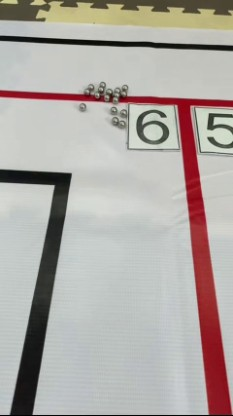ironball: (75, 98, 88, 112), (115, 106, 129, 118), (105, 106, 119, 117), (90, 88, 101, 101), (115, 117, 126, 130), (115, 88, 127, 98), (117, 81, 127, 91), (101, 90, 108, 103), (108, 115, 117, 125), (86, 80, 94, 91), (98, 80, 108, 87), (111, 86, 118, 95), (109, 96, 118, 103), (104, 86, 110, 94)
